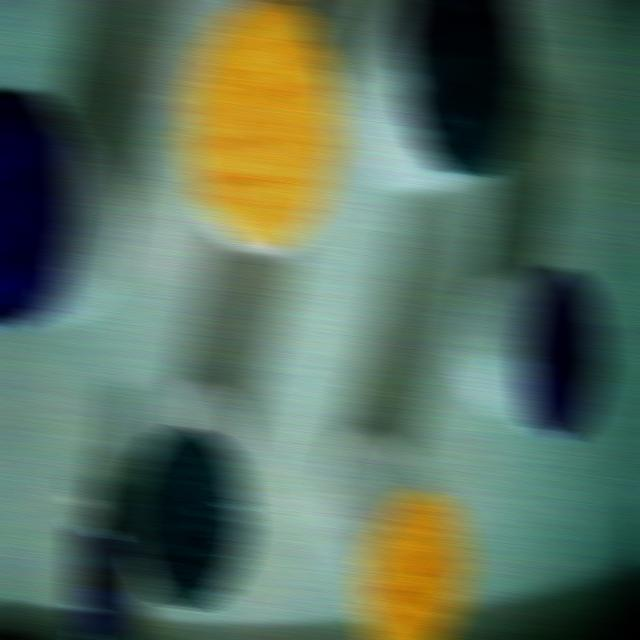blue: (0, 88, 78, 324), (519, 270, 606, 438)
green: (126, 426, 251, 609), (400, 0, 529, 175)
yellow: (181, 0, 342, 253), (357, 488, 470, 639)
